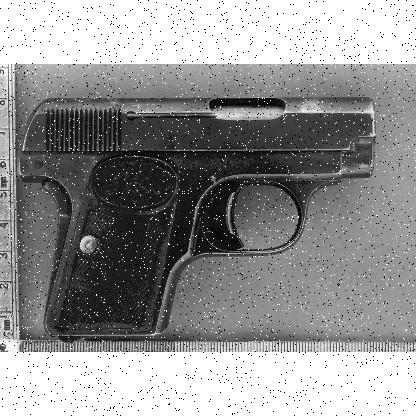gun: (17, 96, 375, 342)
